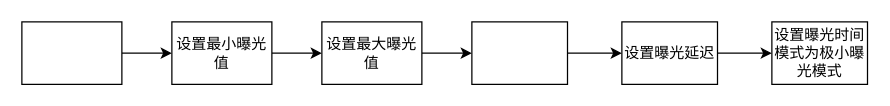
Image size: 890x106. Some labels were removed from this diagram. The shapes that lost their labels are listed below. From the top down, each one's box as (x1, y1, x2, y2) in pixels, then its label:
(21, 21, 122, 84): 获取曝光调节范围
(471, 21, 568, 84): 设置连续自动曝光
